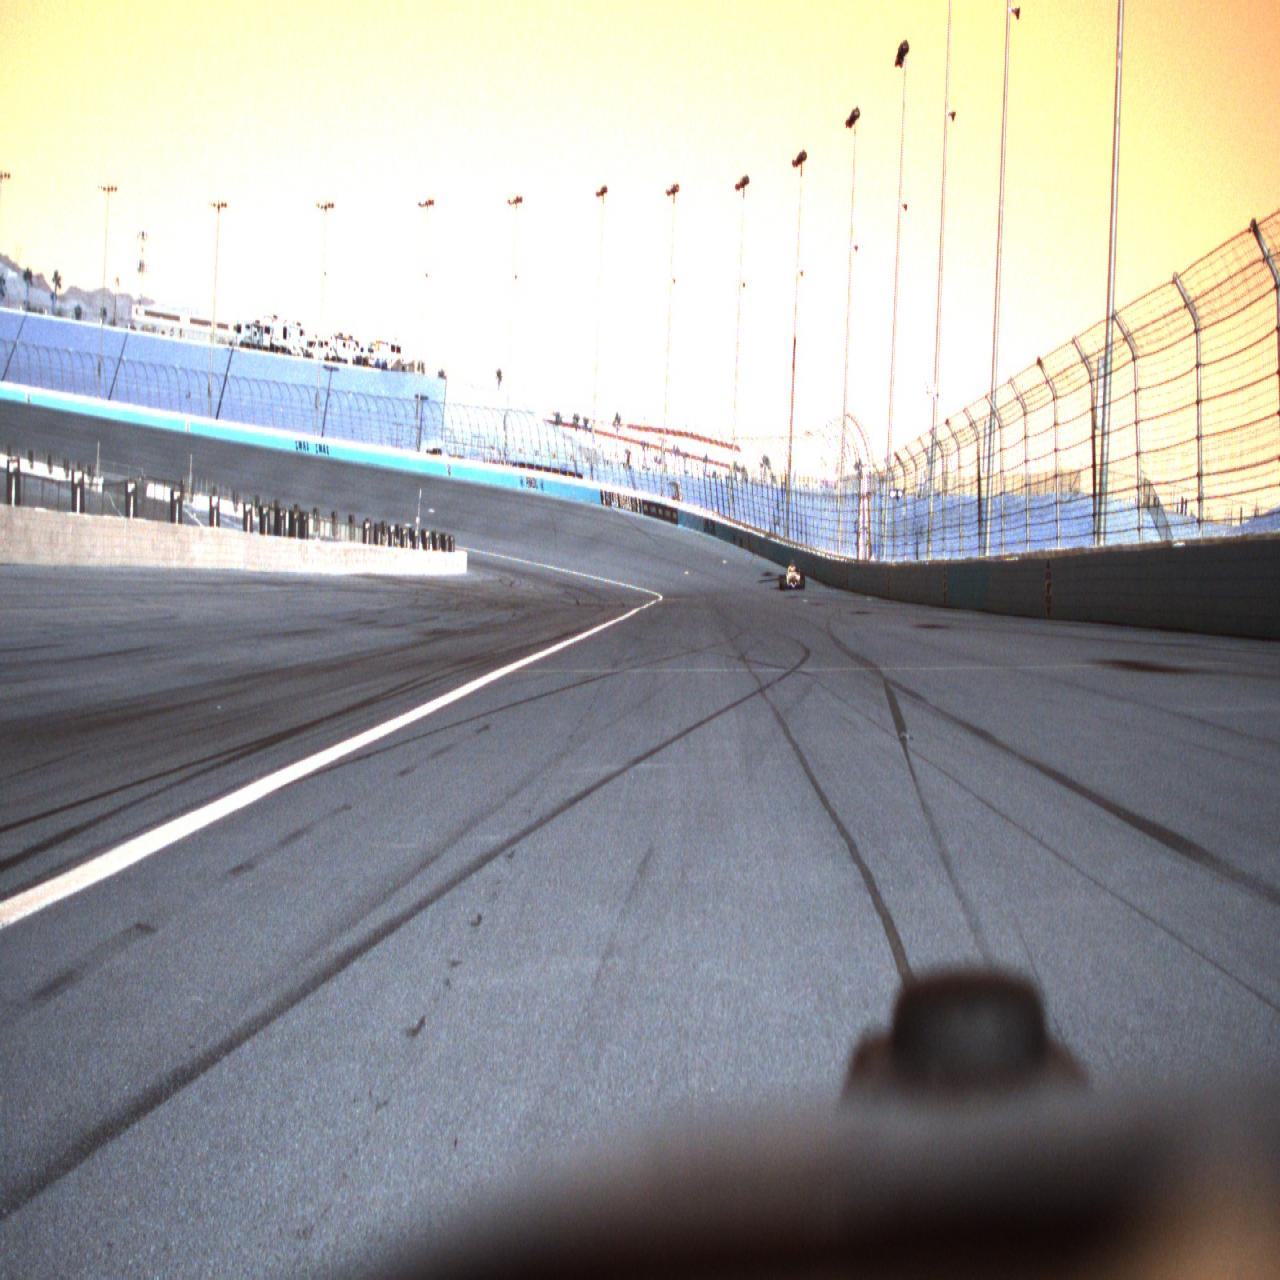AV: (779, 558, 805, 592)
Wheel: (800, 572, 805, 590), (782, 575, 787, 591), (779, 574, 782, 590)
